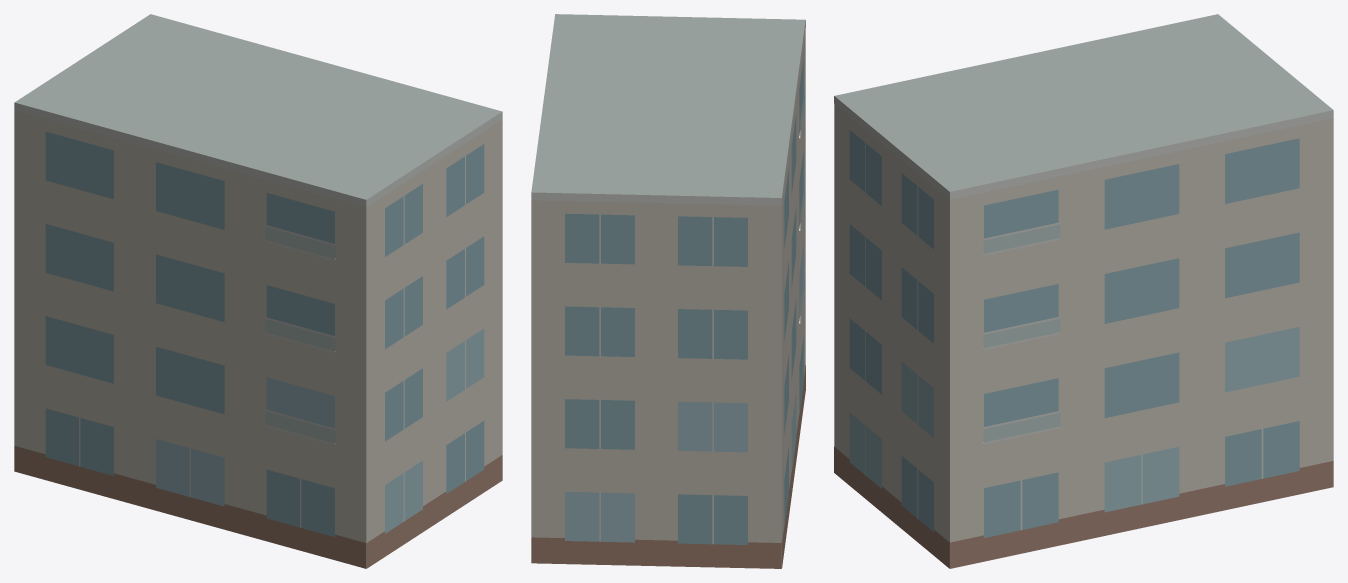
File: survey-upis-32633133.glb
The picture shows the model from 3 angles, left to right: view 1: azimuth 30°, elevation 25°; view 2: azimuth 150°, elevation 25°; view 3: azimuth 270°, elevation 25°; orthographic projection. The views are drawn at different scales.
Visible parts, largest first — view 1: survey-upis-32633133.tmp; view 2: survey-upis-32633133.tmp; view 3: survey-upis-32633133.tmp.
Boxes of the visible parts, left/top/right/bottom form: survey-upis-32633133.tmp: left=14, top=14, right=502, bottom=568; survey-upis-32633133.tmp: left=531, top=14, right=805, bottom=568; survey-upis-32633133.tmp: left=834, top=14, right=1333, bottom=568.
Bounding box in the file's own units: 11.85 × 11.7 × 14.06.
